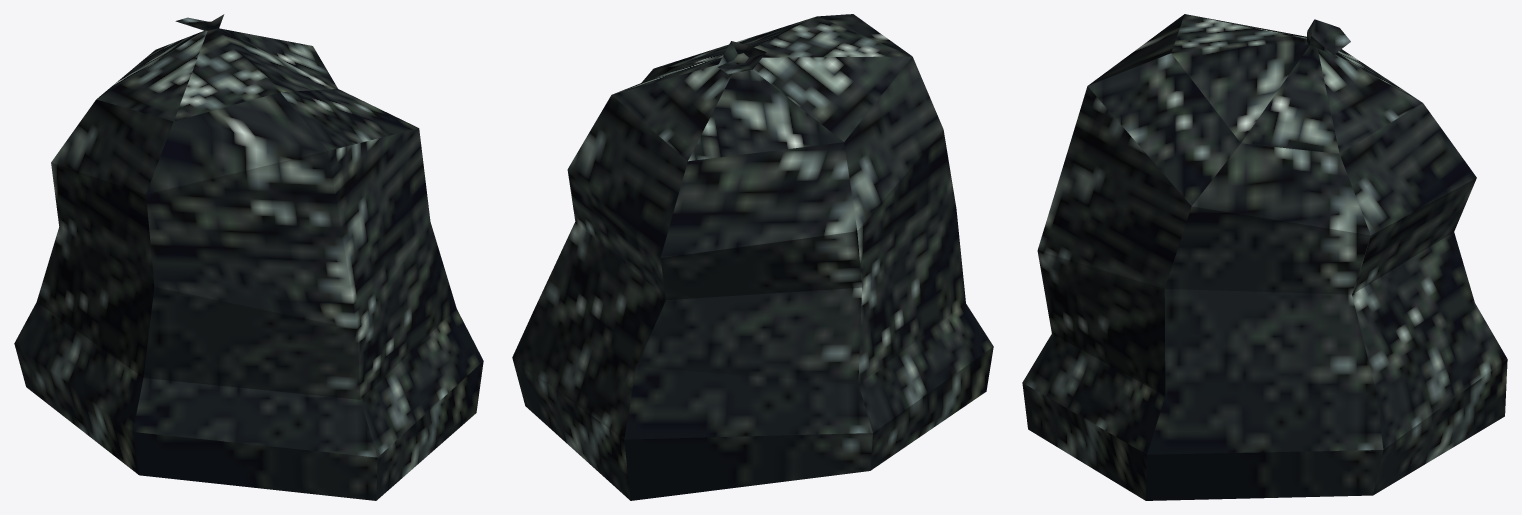
Rendered from bolsasbasura1.fbx.
3 views of the same model, side by side, from view 1: azimuth 30°, elevation 25°; view 2: azimuth 150°, elevation 25°; view 3: azimuth 270°, elevation 25° (orthographic). The views are drawn at different scales.
Parts seen in each view (by area): view 1: trashbag_1; view 2: trashbag_1; view 3: trashbag_1.
Boxes of the visible parts, x1,y1,x2,y2 form: trashbag_1: (14, 14, 483, 500); trashbag_1: (512, 14, 993, 500); trashbag_1: (1022, 14, 1507, 500).
Size of the model in its own units: 77.09 by 80.94 by 91.71.
Materials: 1 (1 with a texture image).
